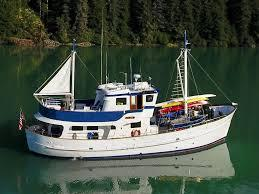Ship: (26, 35, 236, 159)
